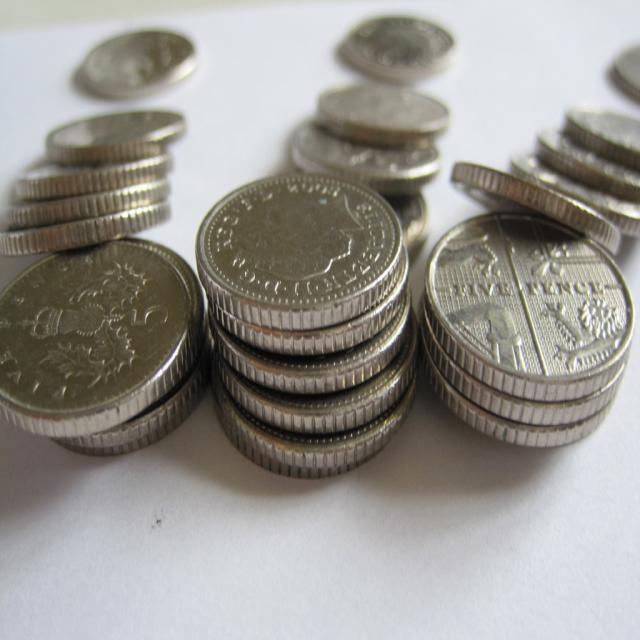Coin: (0, 237, 199, 438), (426, 212, 634, 398), (196, 167, 404, 330), (60, 244, 202, 452), (205, 239, 411, 364), (416, 302, 628, 421), (208, 279, 409, 396), (206, 331, 419, 433), (444, 154, 622, 259), (212, 375, 413, 465), (426, 357, 616, 446), (279, 165, 432, 265), (210, 398, 392, 475), (287, 114, 441, 197), (513, 146, 640, 236), (0, 199, 172, 259), (318, 83, 448, 151), (64, 396, 198, 461), (540, 114, 640, 201), (77, 30, 195, 99), (44, 107, 186, 164), (341, 13, 455, 84), (0, 177, 172, 223), (16, 155, 180, 203), (563, 101, 640, 170), (610, 41, 640, 100)
